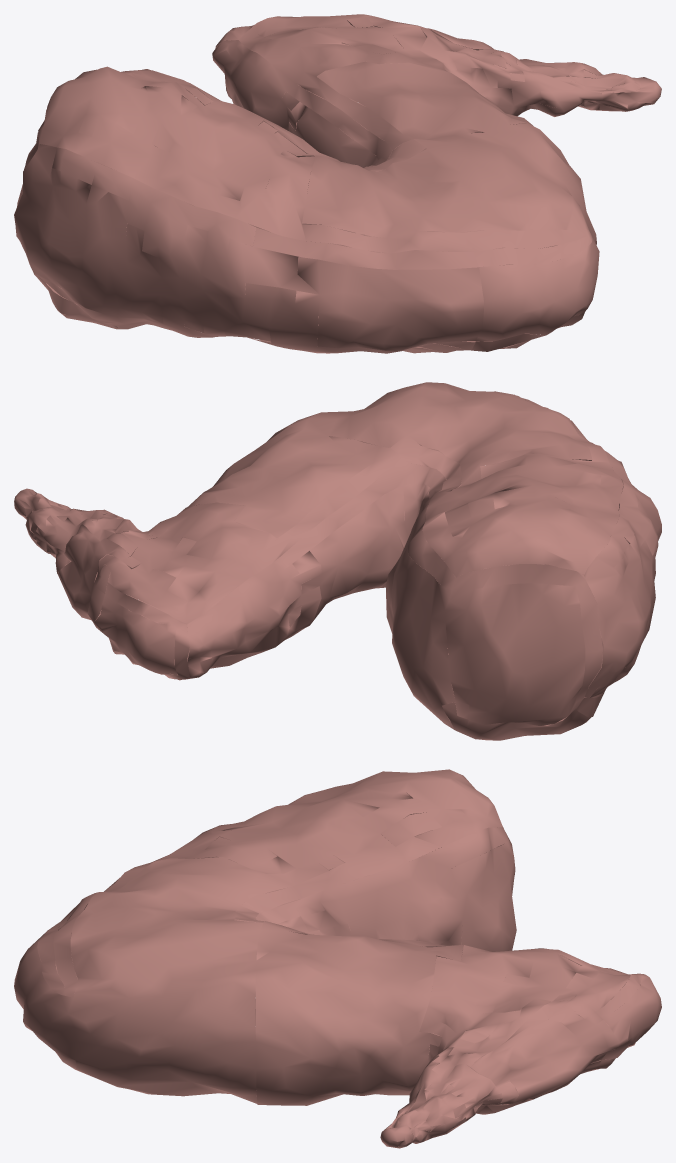
The model's file is Food (4).fbx.
3 renders of one model, top to bottom at view 1: azimuth 30°, elevation 25°; view 2: azimuth 150°, elevation 25°; view 3: azimuth 270°, elevation 25°, orthographic. The views are drawn at different scales.
Parts seen in each view (by area): view 1: Cube.002; view 2: Cube.002; view 3: Cube.002.
Boxes of the visible parts, bbox=[...] form: Cube.002: bbox=[14, 14, 661, 353]; Cube.002: bbox=[14, 382, 661, 740]; Cube.002: bbox=[14, 769, 661, 1148].
Size of the model in its own units: 9.73 by 3.36 by 9.17.
